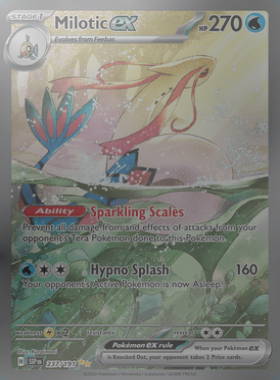Milotic_ex: (0, 0, 280, 380)
